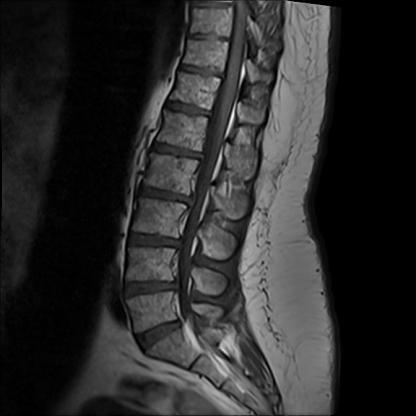Annular Disc Relaxationrotation: (127, 230, 181, 254), (150, 143, 203, 163)
Degenerative Disc Diseaserotation: (137, 186, 194, 210), (121, 280, 181, 301)
Disc Bulgerotation: (134, 321, 187, 348), (138, 186, 194, 209), (121, 279, 181, 300)
